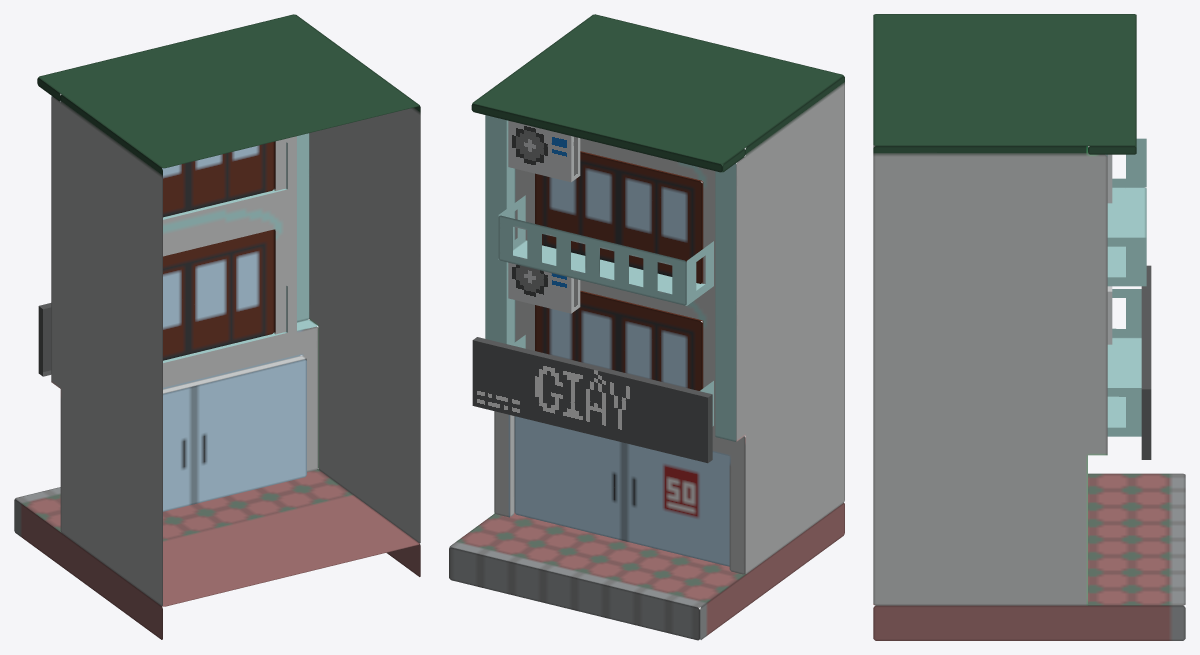
Rendered from House 2.fbx.
3 renders of one model, left to right at view 1: azimuth 30°, elevation 25°; view 2: azimuth 150°, elevation 25°; view 3: azimuth 270°, elevation 25°, orthographic. The views are drawn at different scales.
Visible parts, largest first — view 1: House 1, SideRoad, Banner; view 2: House 1, SideRoad, Banner, plane, AC_1, AC; view 3: House 1, SideRoad, plane, plane_1, Banner.
Boxes of the visible parts, bbox=[...] form: House 1: bbox=[37, 14, 420, 605]; SideRoad: bbox=[14, 469, 420, 639]; Banner: bbox=[38, 303, 51, 376]; House 1: bbox=[471, 14, 844, 574]; SideRoad: bbox=[449, 503, 844, 640]; Banner: bbox=[472, 337, 712, 463]; plane: bbox=[498, 195, 713, 305]; AC_1: bbox=[508, 120, 580, 182]; AC: bbox=[508, 262, 580, 313]; House 1: bbox=[873, 14, 1136, 605]; SideRoad: bbox=[873, 473, 1185, 640]; plane: bbox=[1107, 138, 1146, 286]; plane_1: bbox=[1107, 289, 1141, 436]; Banner: bbox=[1141, 265, 1151, 459].
Size of the model in its own units: 200 by 350 by 200.
Materials: 4 (4 with a texture image).
